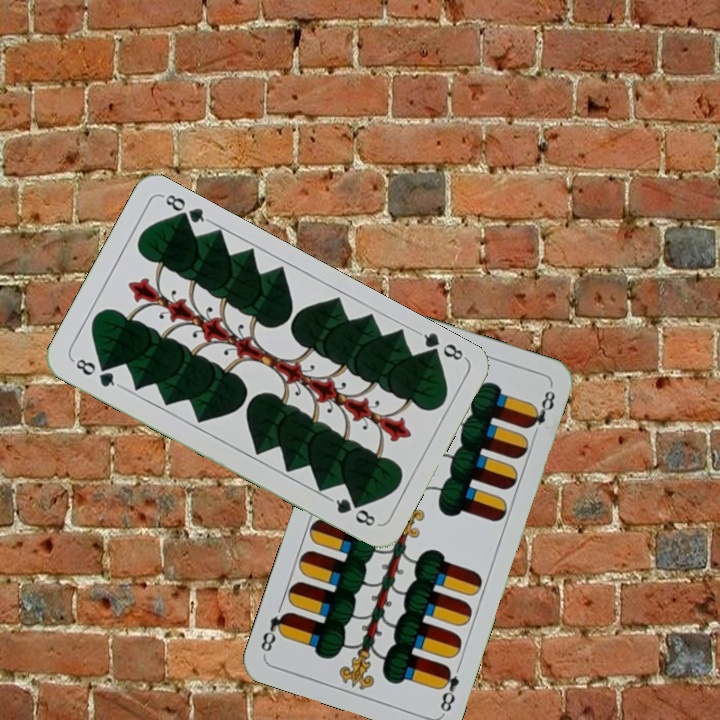E8: (435, 661, 462, 716)
G8: (414, 327, 469, 364), (69, 354, 123, 390)
